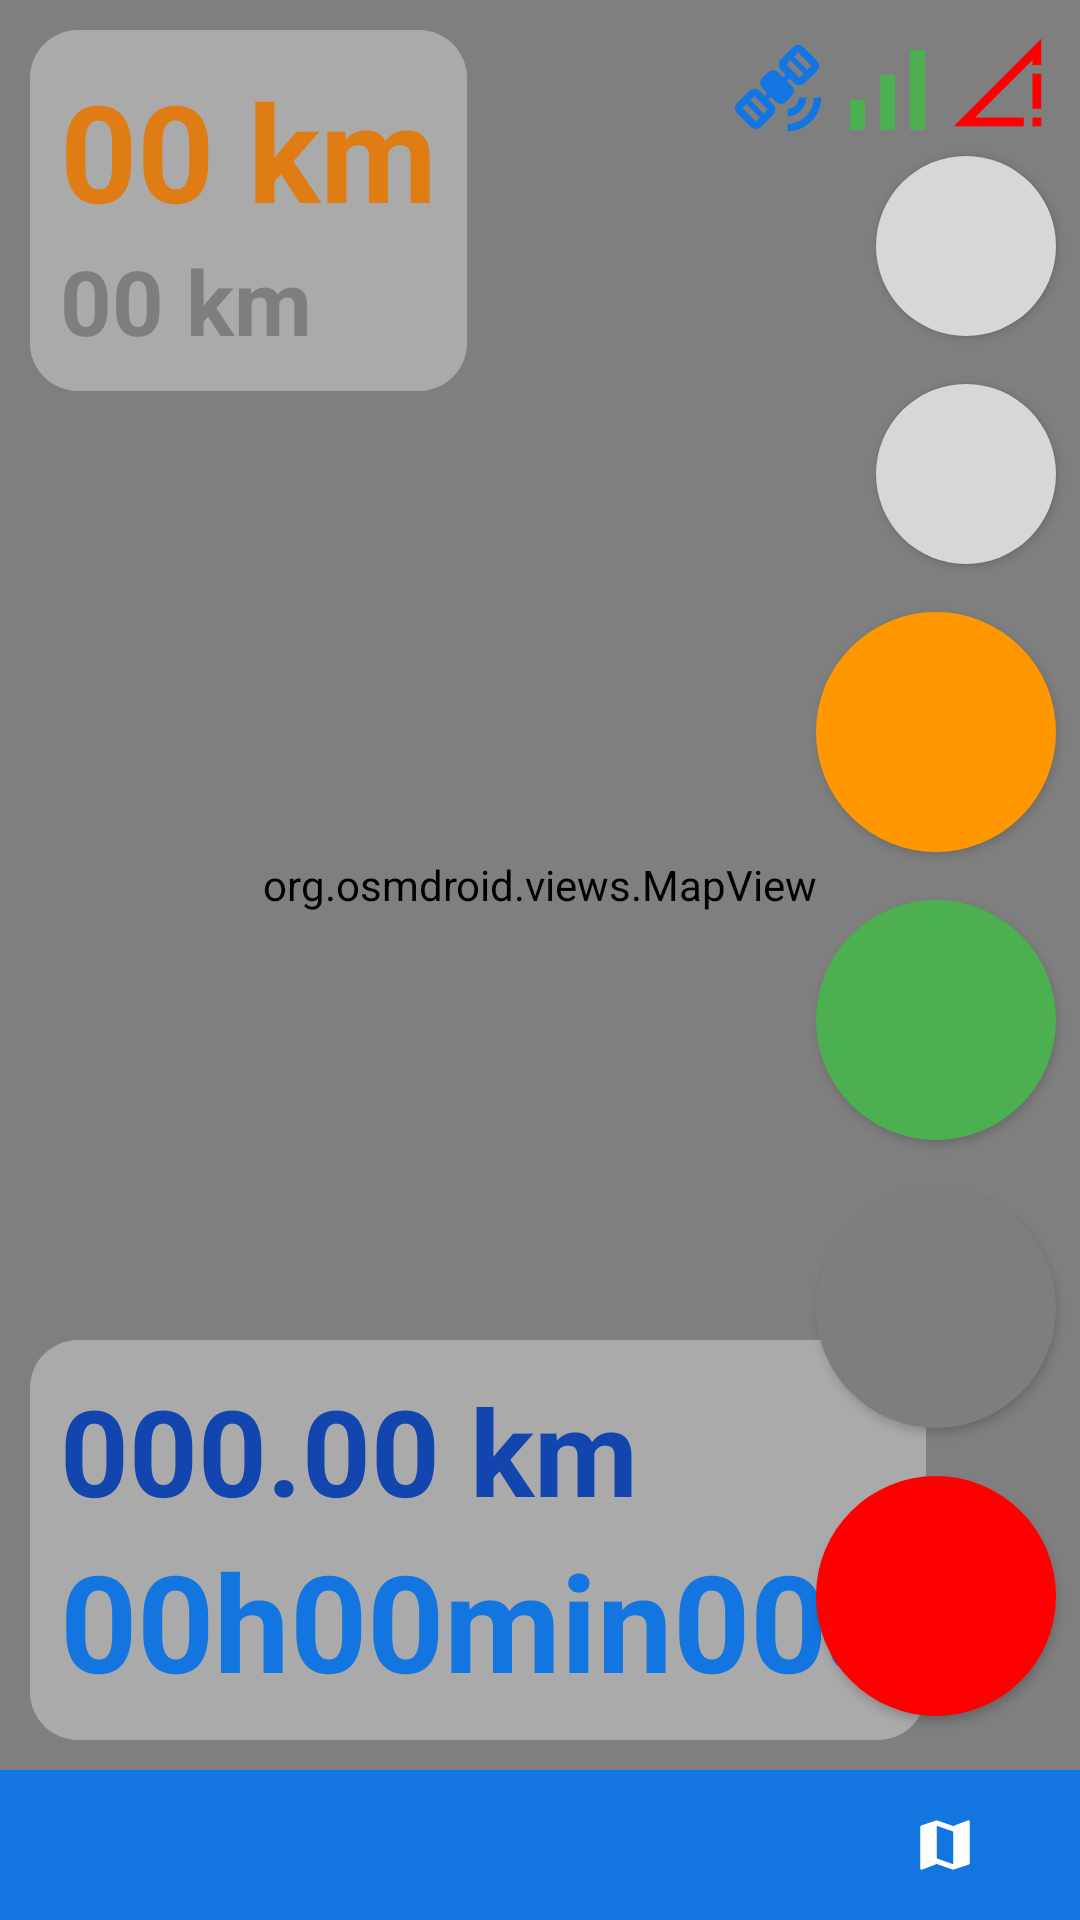

Named icons in this screenshot (1080x1920) and their bounding boxes, (x1, y1, x2, y2):
satellite: (735, 45, 822, 132)
satellite bad: (954, 39, 1042, 127)
